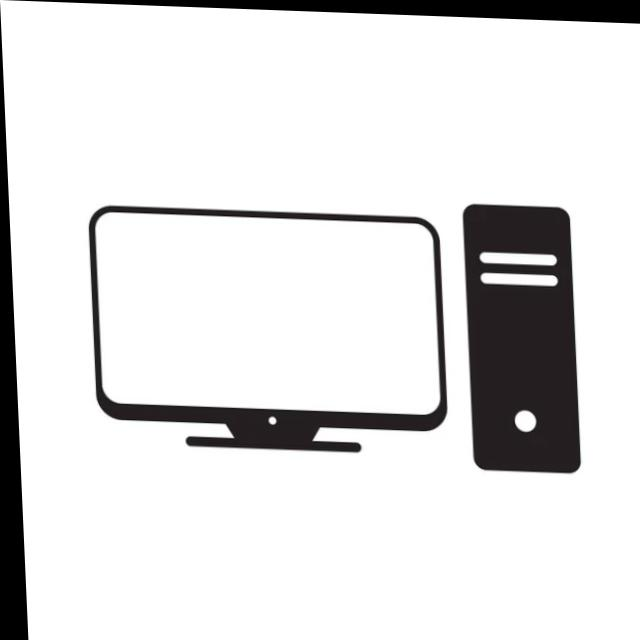Client: (23, 149, 630, 540)
